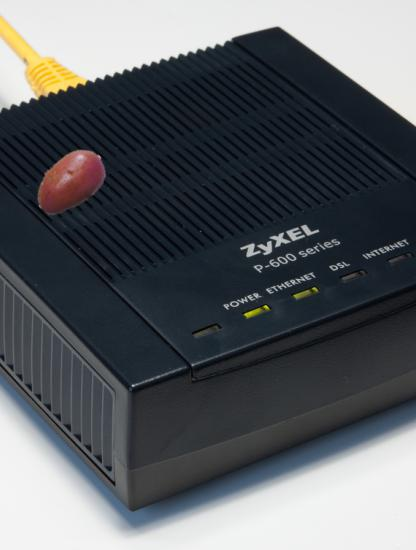Potato: (31, 143, 110, 222)
